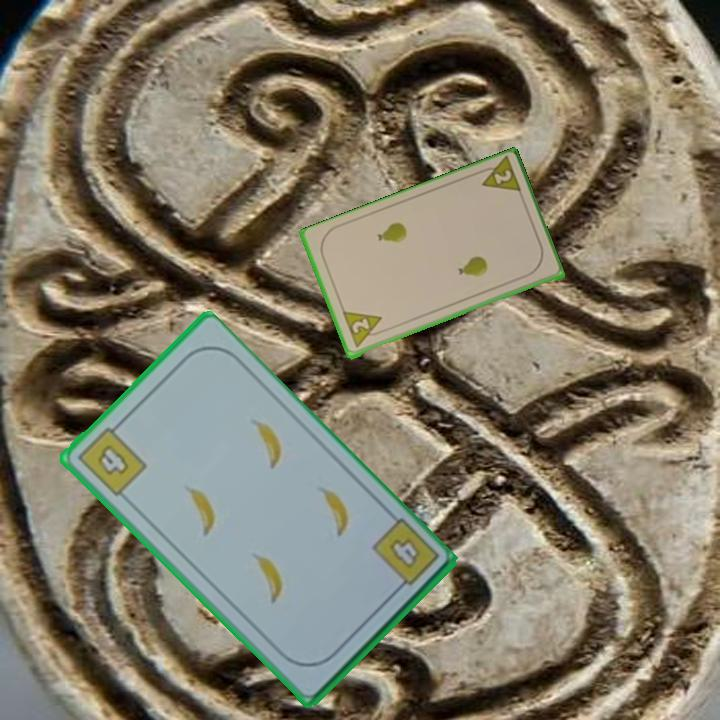2p: (473, 155, 525, 198), (339, 308, 388, 351)
4b: (73, 418, 150, 500), (368, 515, 442, 597)
